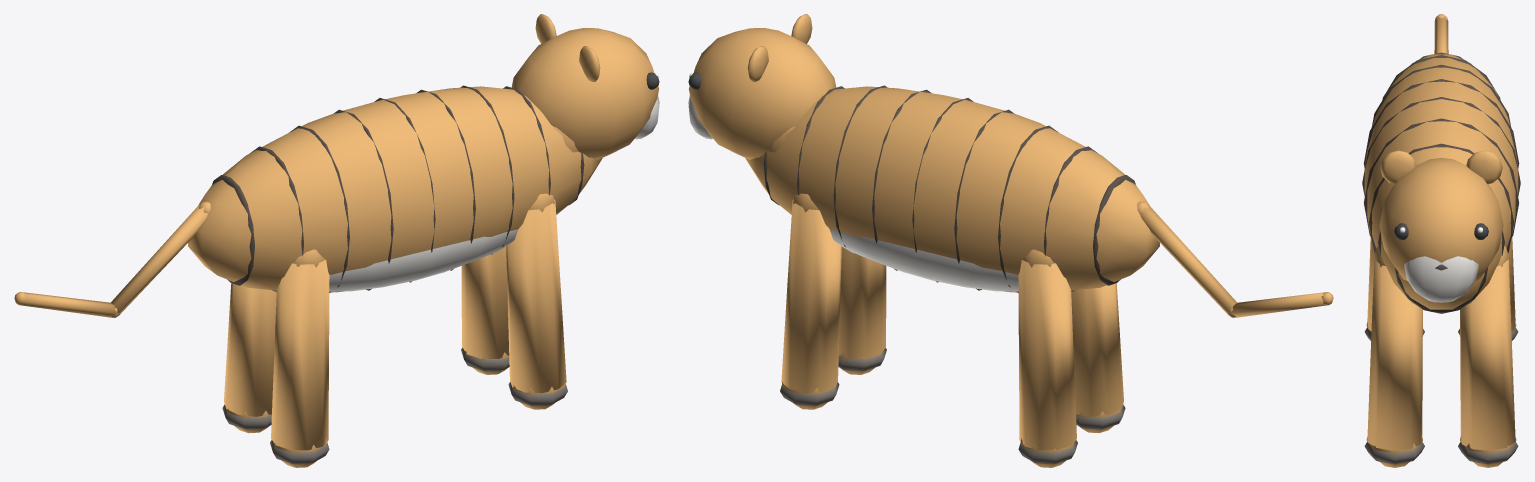
File: malayan-tiger.glb
The picture shows the model from 3 angles, left to right: view 1: azimuth 30°, elevation 25°; view 2: azimuth 150°, elevation 25°; view 3: azimuth 270°, elevation 25°; orthographic projection.
Visible parts, largest first — view 1: e, e.025, e.034; view 2: e, e.025, e.034; view 3: e, e.025, e.034.
Boxes of the visible parts, x1,y1,x2,y2 form: e: [188, 85, 602, 467]; e.025: [511, 14, 659, 159]; e.034: [14, 201, 210, 317]; e: [745, 85, 1159, 467]; e.025: [688, 14, 836, 159]; e.034: [1137, 201, 1333, 317]; e: [1362, 52, 1520, 467]; e.025: [1379, 150, 1503, 302]; e.034: [1434, 14, 1448, 53].
Bounding box in the file's own units: 1.86 × 0.9649 × 0.408.
